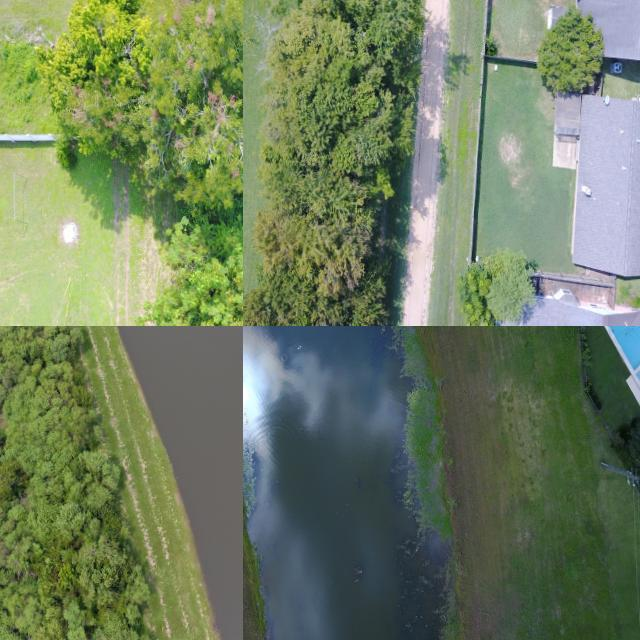fire: (243, 326, 447, 640), (118, 326, 243, 640)
